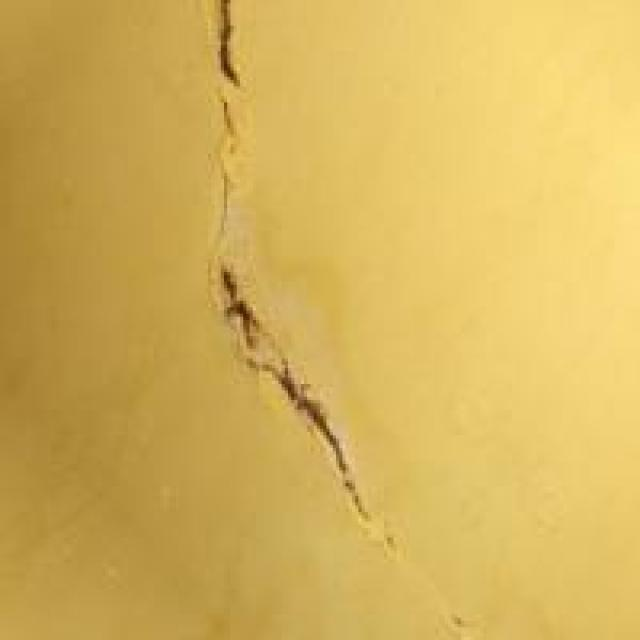Crack: (170, 0, 426, 576)
